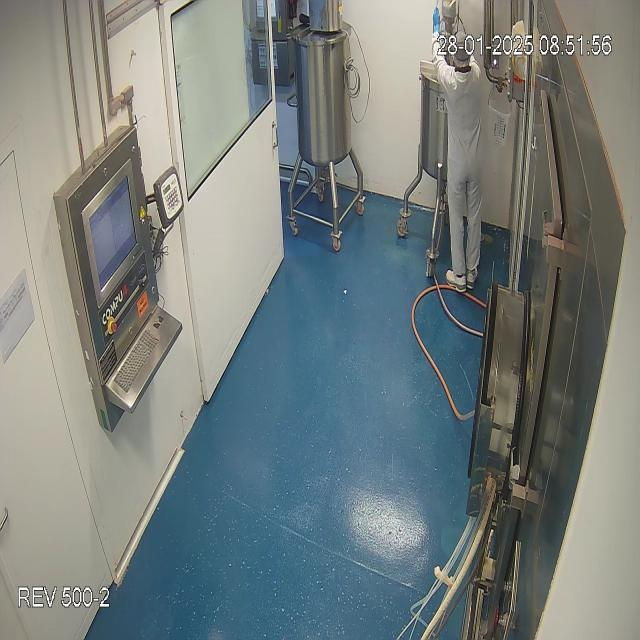bota: (441, 267, 482, 296)
pessoa: (431, 10, 482, 291)
touca: (452, 31, 473, 67)
